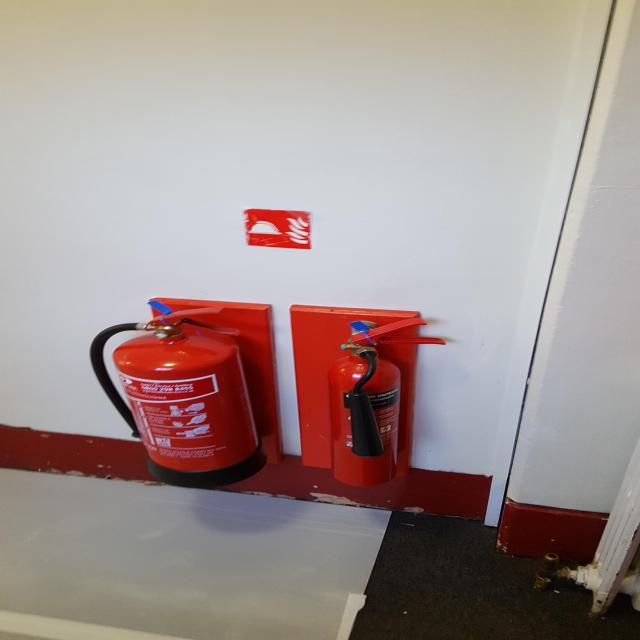fire_extinguisher: (86, 304, 272, 490), (323, 315, 453, 489)
